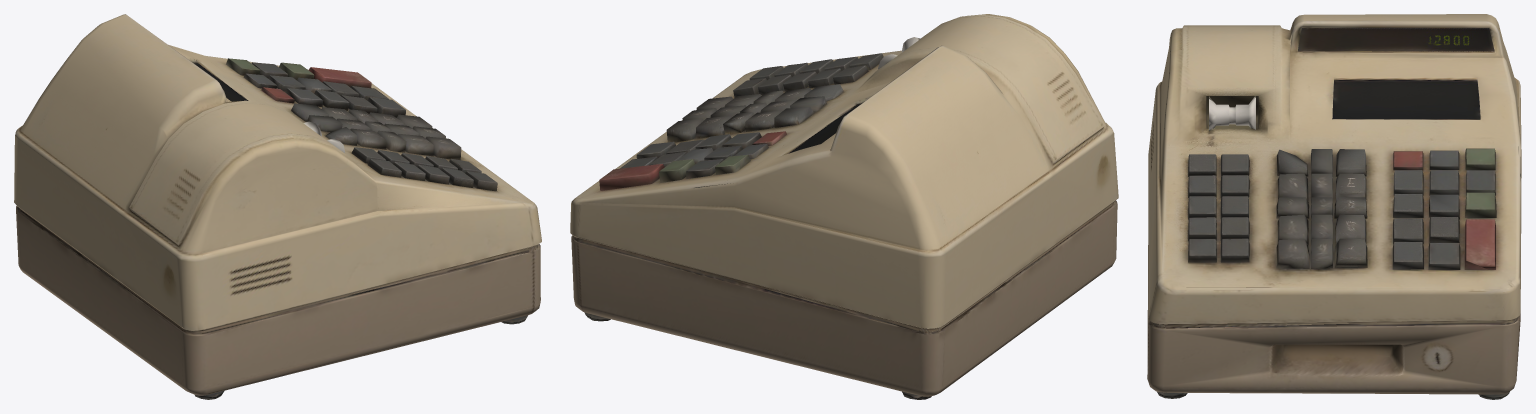
3 views of the same model, side by side, from view 1: azimuth 30°, elevation 25°; view 2: azimuth 150°, elevation 25°; view 3: azimuth 270°, elevation 25° (orthographic). The views are drawn at different scales.
Parts seen in each view (by area): view 1: tripo_node_f6fb2a1f-0312-4be2-9781-0e9388c987e0; view 2: tripo_node_f6fb2a1f-0312-4be2-9781-0e9388c987e0; view 3: tripo_node_f6fb2a1f-0312-4be2-9781-0e9388c987e0.
Part boxes in pixels (<box>): tripo_node_f6fb2a1f-0312-4be2-9781-0e9388c987e0: <box>14,14,541,399</box>; tripo_node_f6fb2a1f-0312-4be2-9781-0e9388c987e0: <box>570,14,1118,399</box>; tripo_node_f6fb2a1f-0312-4be2-9781-0e9388c987e0: <box>1147,14,1521,399</box>.
Size of the model in its own units: 0.998 by 0.666 by 0.8809.
Materials: 1 (1 with a texture image).
